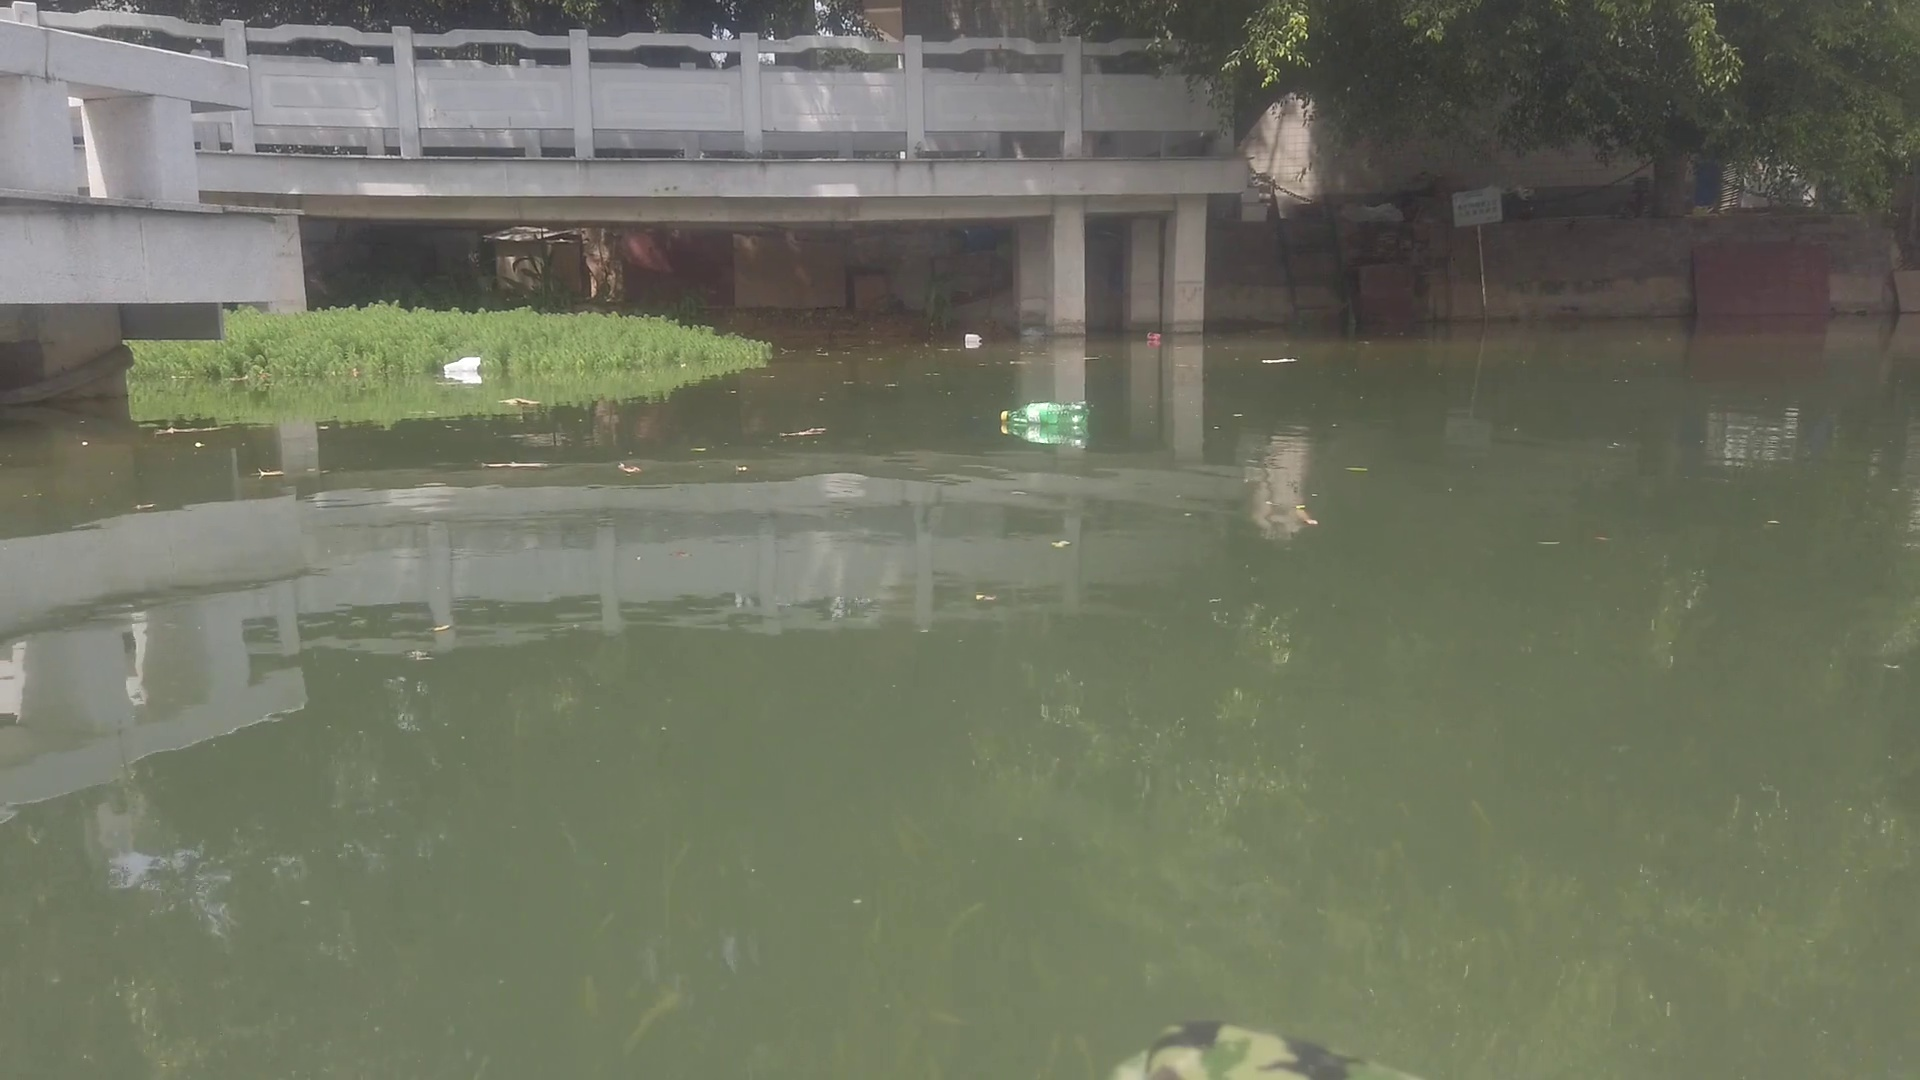bottle: (1000, 397, 1095, 425), (1147, 330, 1163, 343)
carton: (964, 330, 981, 345)
paper: (1255, 352, 1298, 367)
plastic: (438, 355, 485, 375)
